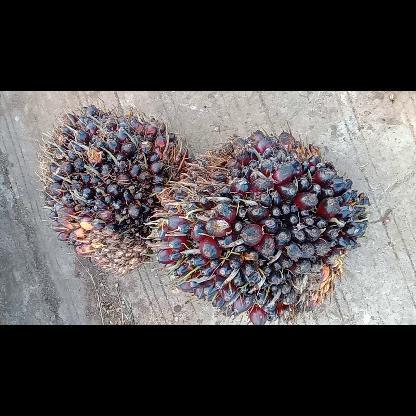TBS mentah: (154, 130, 370, 324), (40, 106, 188, 272)
